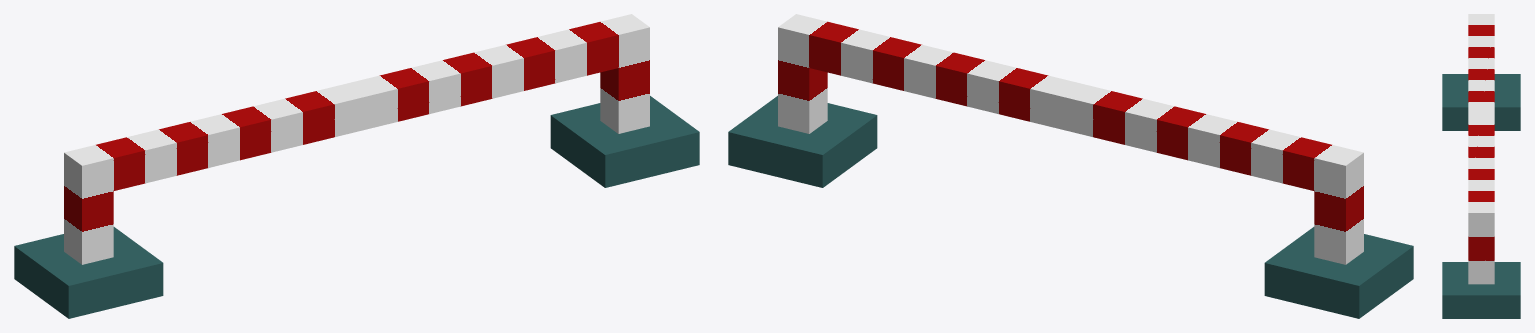
Rendered from enemylow.dae.
3 renders of one model, left to right at view 1: azimuth 30°, elevation 25°; view 2: azimuth 150°, elevation 25°; view 3: azimuth 270°, elevation 25°, orthographic. The views are drawn at different scales.
Parts seen in each view (by area): view 1: enemylow; view 2: enemylow; view 3: enemylow.
Boxes of the visible parts, <box> form: enemylow: <box>14,14,699,318</box>; enemylow: <box>728,14,1413,318</box>; enemylow: <box>1442,14,1520,318</box>.
Size of the model in its own units: 2 by 0.3 by 0.4.
Materials: 1 (1 with a texture image).
